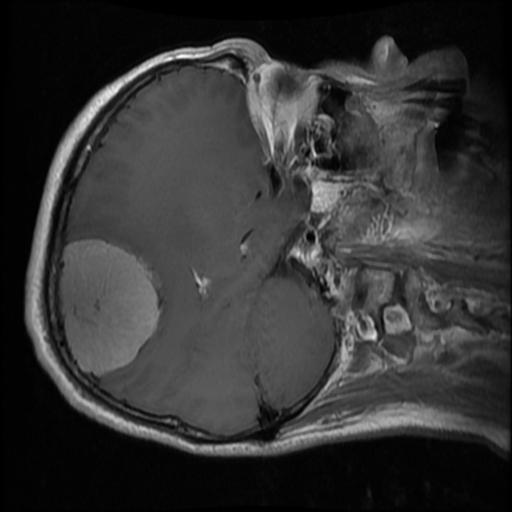meningioma: (57, 240, 162, 377)
